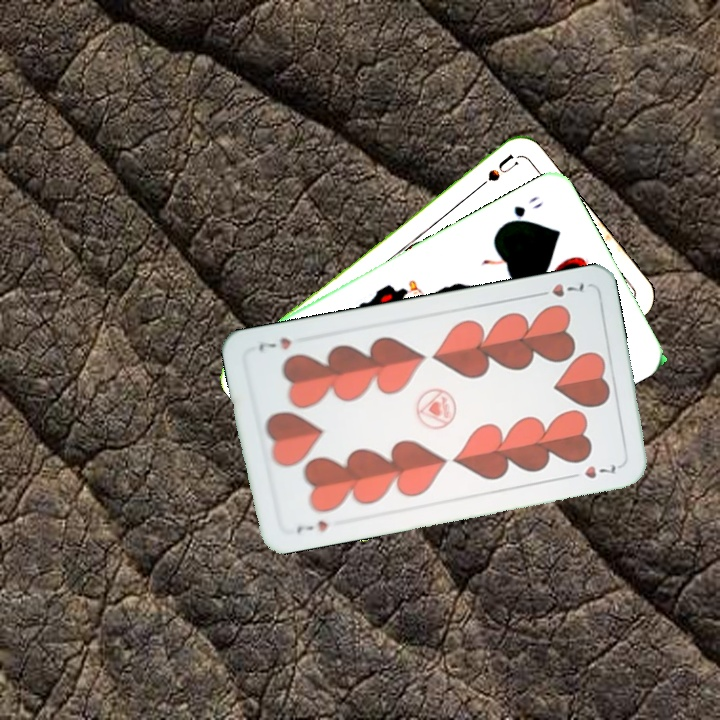GO: (498, 192, 545, 230)
H7: (531, 278, 588, 300), (292, 516, 331, 536)
SU: (468, 150, 521, 196)
